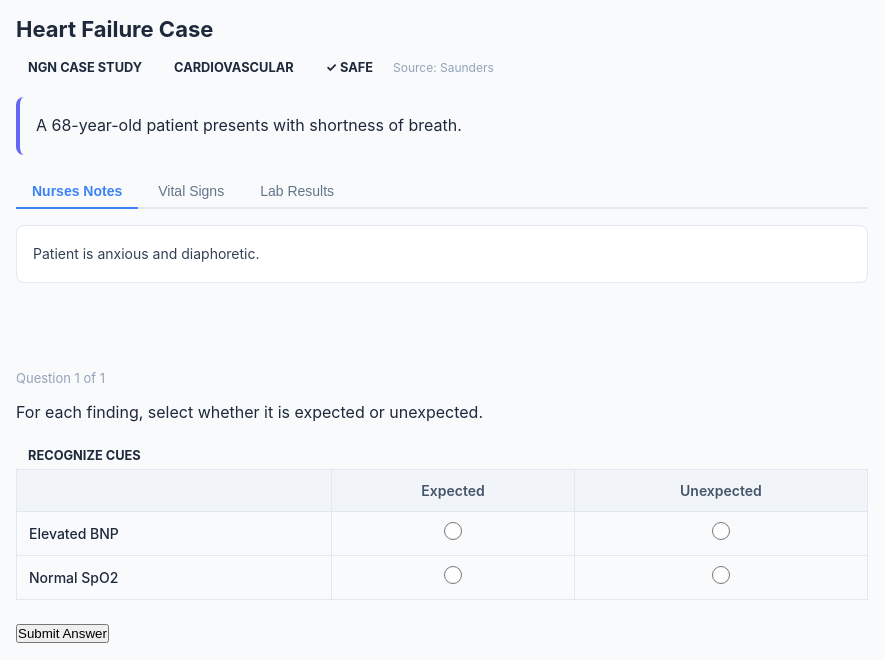
Test case: NGNCaseStudyComponent › allows selecting matrix answers and submitting
Click the 1st radio button at (453, 531), box [444,522,462,540]
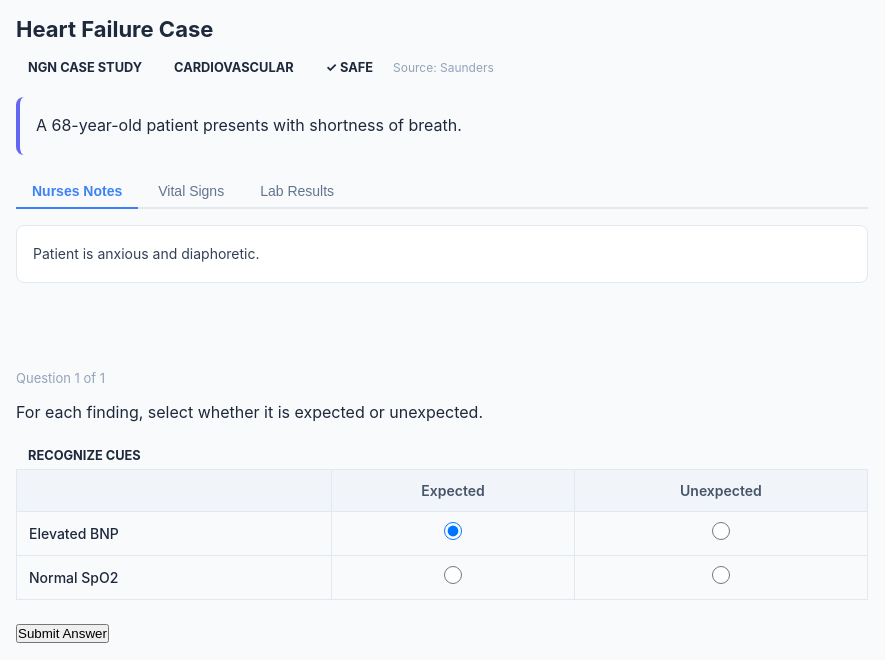
Click the 4th radio button at (721, 575), box [712,566,730,584]
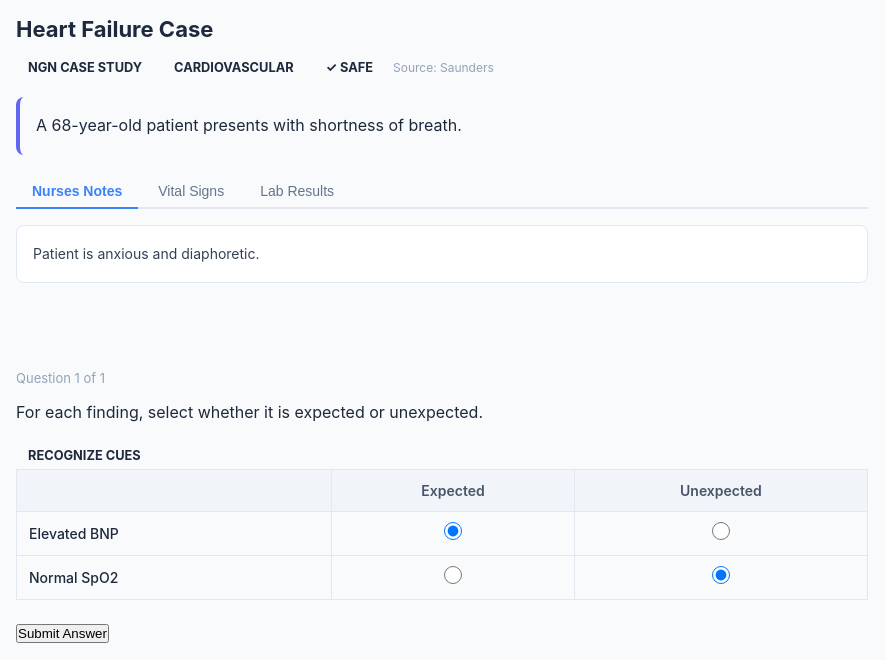
Click the button "Submit Answer" at (62, 634), box [16,624,109,643]
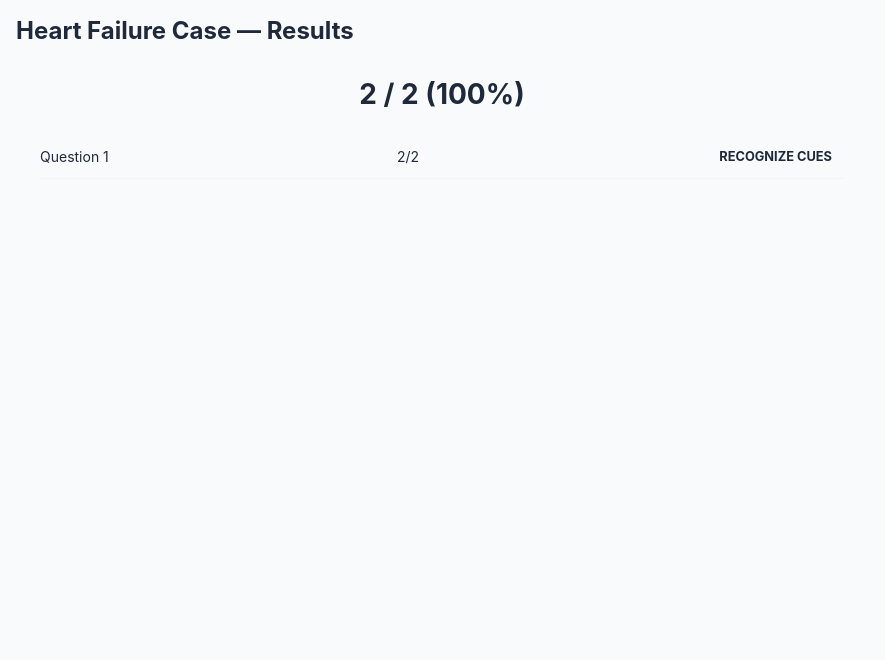
Now the heading "Heart Failure Case — Results" is shown, box [16,16,354,45]
